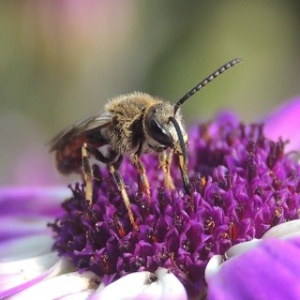bee: (46, 93, 194, 228)
